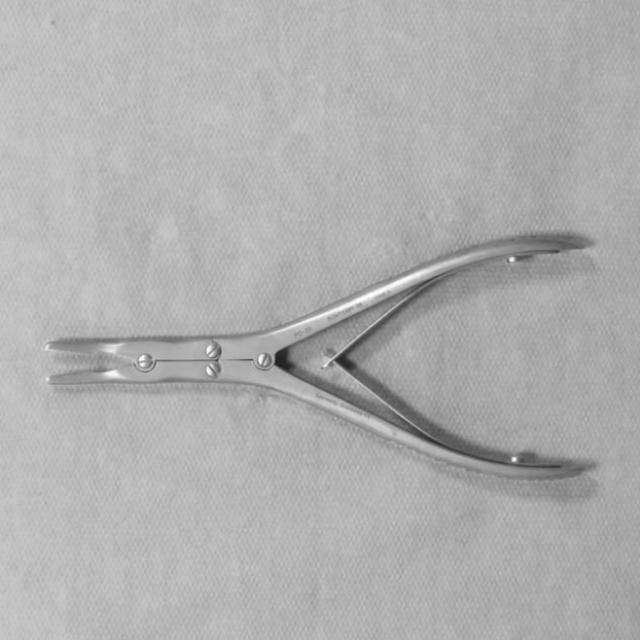gubia: (45, 232, 599, 483)
